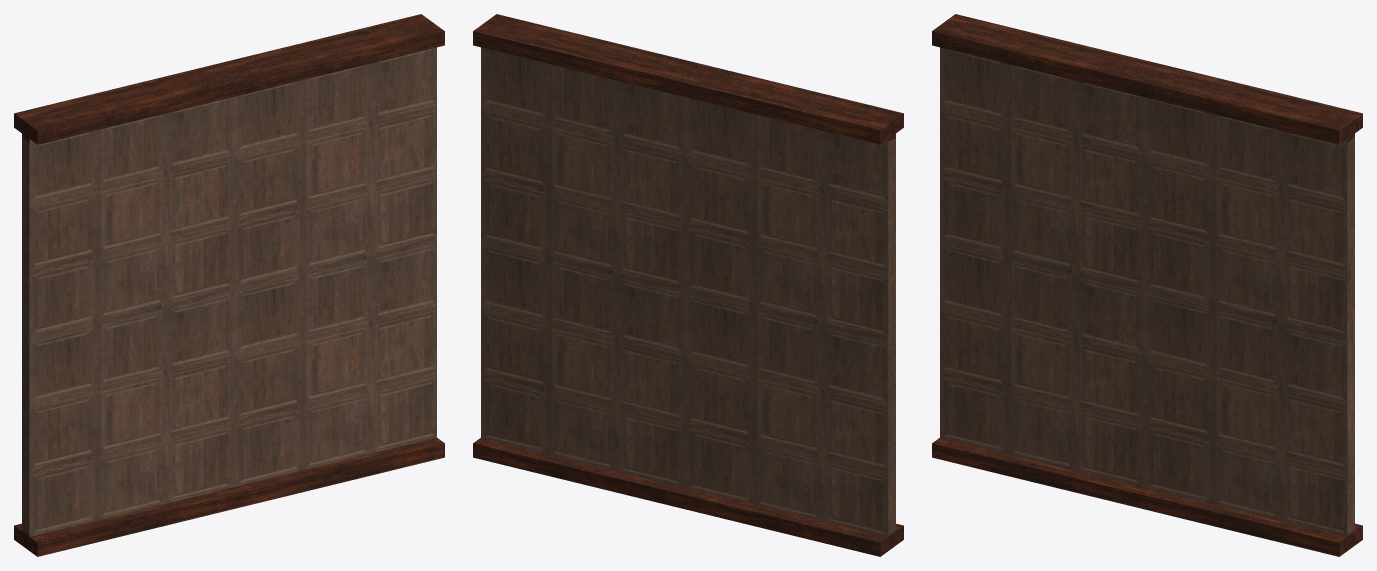
File: SPECIAL_WALL.fbx
3 renders of one model, left to right at view 1: azimuth 30°, elevation 25°; view 2: azimuth 150°, elevation 25°; view 3: azimuth 330°, elevation 25°, orthographic.
Parts seen in each view (by area): view 1: CORNER2_sy; view 2: CORNER2_sy; view 3: CORNER2_sy.
Part boxes in pixels (<box>): CORNER2_sy: <box>14,14,444,556</box>; CORNER2_sy: <box>473,14,903,556</box>; CORNER2_sy: <box>932,14,1362,556</box>.
Bounding box in the file's own units: 300 × 300 × 30.
